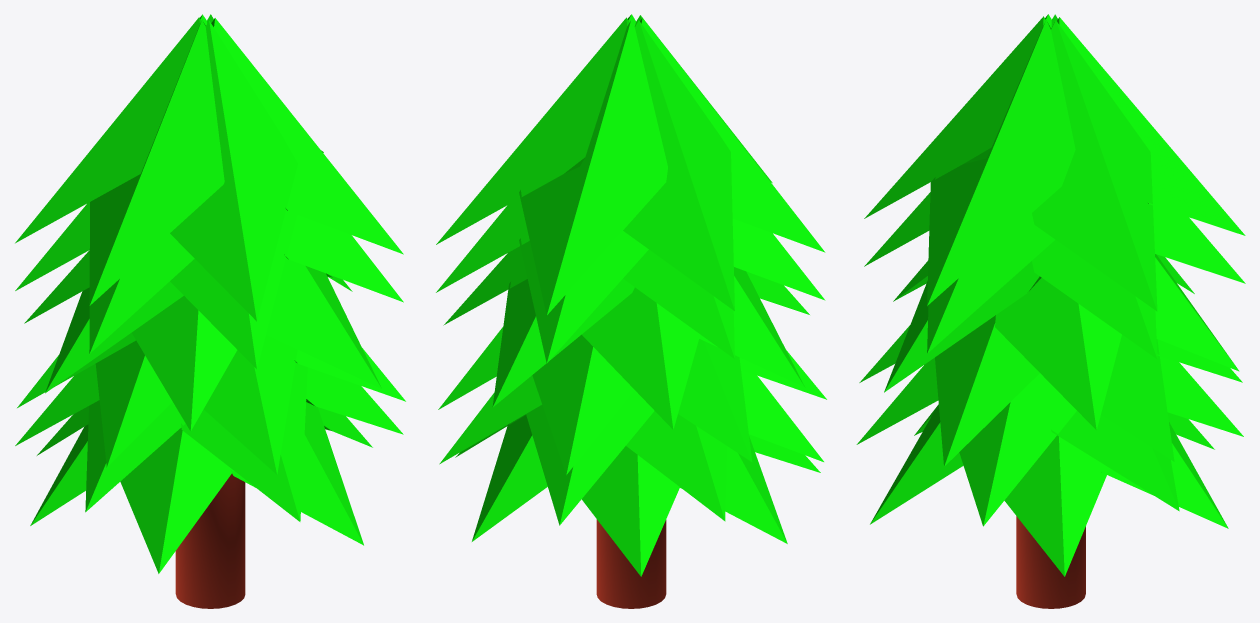
3 renders of one model, left to right at view 1: azimuth 30°, elevation 25°; view 2: azimuth 150°, elevation 25°; view 3: azimuth 270°, elevation 25°, orthographic.
Visible parts, largest first — view 1: 立方体.005, 円柱; view 2: 立方体.005, 円柱; view 3: 立方体.005, 円柱.
Boxes of the visible parts, <box> form: 立方体.005: <box>15,14,405,573</box>; 円柱: <box>175,474,245,608</box>; 立方体.005: <box>436,14,826,576</box>; 円柱: <box>596,519,666,608</box>; 立方体.005: <box>856,14,1245,576</box>; 円柱: <box>1016,516,1085,608</box>.
Size of the model in its own units: 1125 by 1831 by 1125.
Materials: 2 (2 with a texture image).
